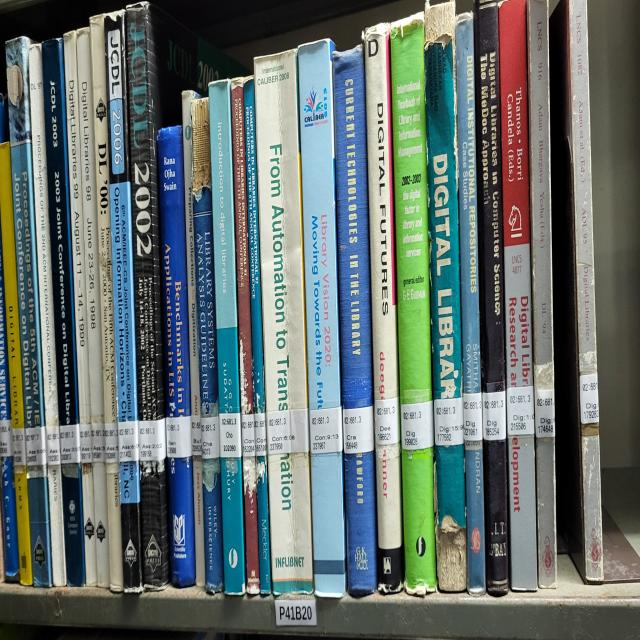Book: (125, 3, 198, 587), (254, 51, 314, 595), (550, 0, 604, 584), (298, 41, 346, 598), (390, 16, 436, 595), (6, 35, 52, 587), (332, 46, 378, 595), (424, 8, 466, 587), (42, 38, 85, 587), (499, 0, 538, 590), (364, 24, 404, 593), (105, 11, 142, 593), (474, 0, 509, 595), (29, 43, 66, 587), (90, 16, 124, 593), (76, 27, 110, 587), (64, 32, 98, 587), (209, 78, 245, 595), (455, 14, 486, 595), (158, 124, 195, 587), (528, 0, 556, 587), (191, 97, 224, 593), (0, 141, 32, 584), (244, 81, 271, 595), (181, 89, 205, 587), (231, 78, 254, 436), (242, 444, 260, 595)
Label: (309, 406, 342, 455), (401, 400, 434, 449), (342, 406, 374, 455), (434, 398, 464, 446), (506, 387, 535, 436), (482, 390, 506, 441), (266, 409, 291, 455), (375, 398, 400, 444), (139, 419, 166, 460), (580, 371, 599, 425), (219, 411, 241, 457), (166, 417, 191, 457), (462, 392, 482, 441), (535, 390, 555, 438), (118, 419, 139, 463), (25, 425, 46, 465), (201, 417, 220, 460), (60, 425, 81, 463), (45, 425, 61, 465), (104, 422, 119, 463), (241, 414, 255, 457), (91, 422, 105, 463), (254, 411, 266, 457), (12, 427, 26, 465), (80, 425, 92, 463), (191, 417, 201, 457)
